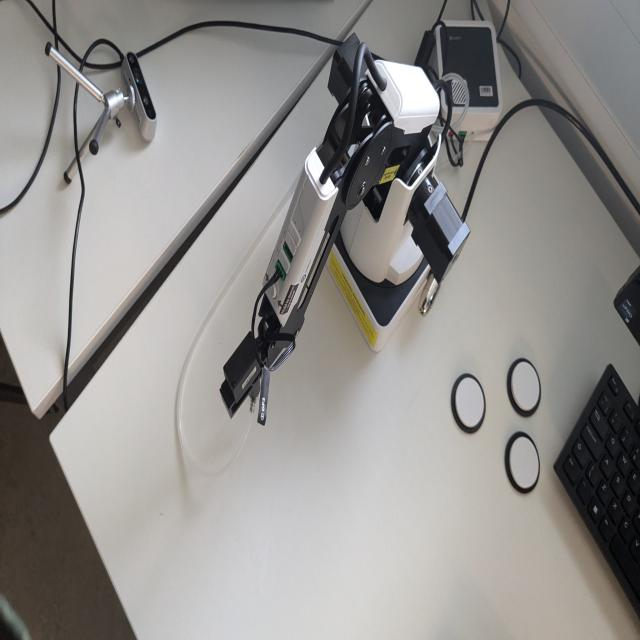Robot-end-effector-HF8z: (218, 328, 271, 422)
